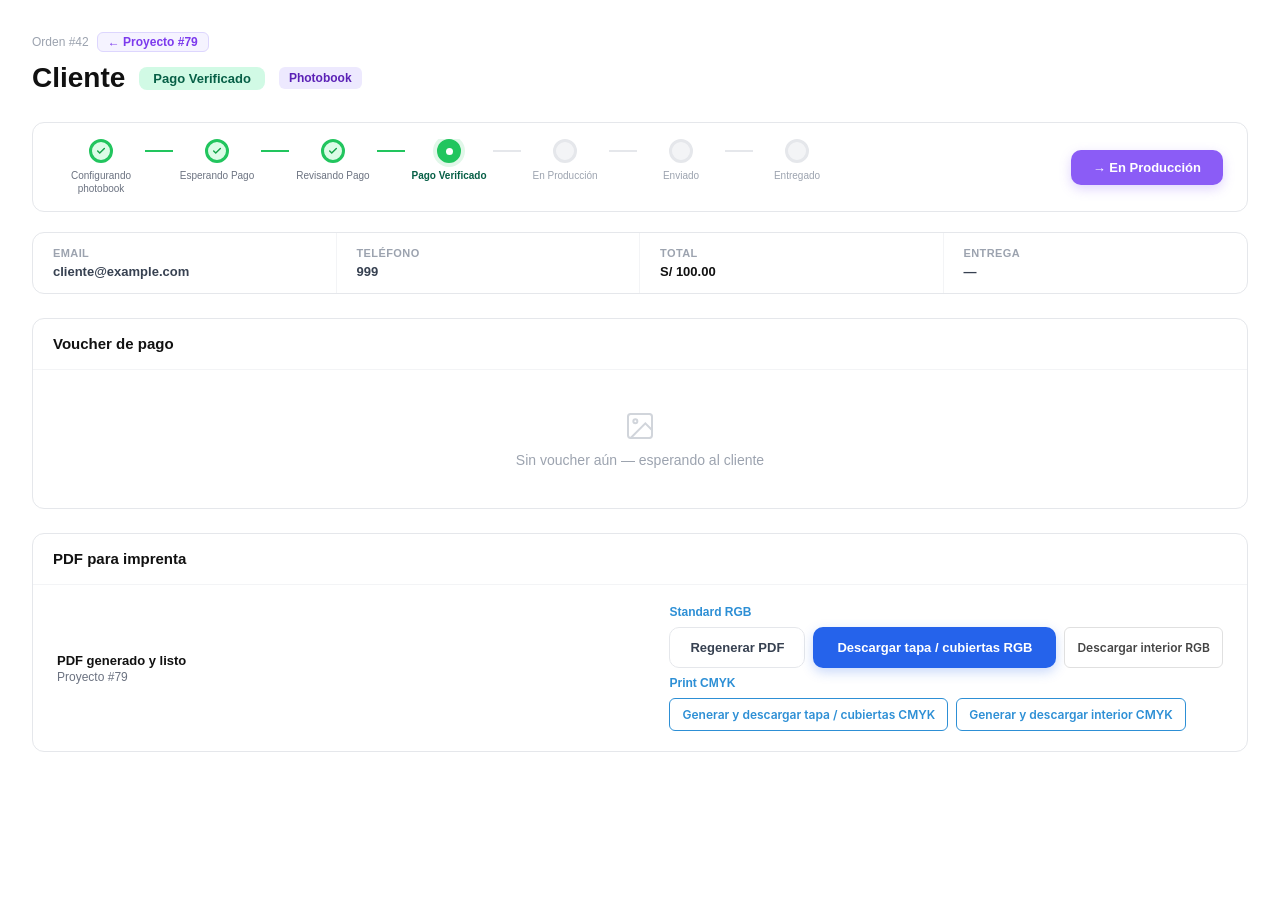
Test: order print output controls › groups standard and CMYK downloads for photobook orders
This screenshot has width=1280, height=900.
Expected: the text "Standard RGB" is shown, [670, 605, 752, 619]
Expected: the text "Print CMYK" is shown, [670, 676, 736, 690]
Click the button "Generar y descargar tapa / cubiertas CMYK".
click(809, 714)  # box [670, 698, 948, 731]
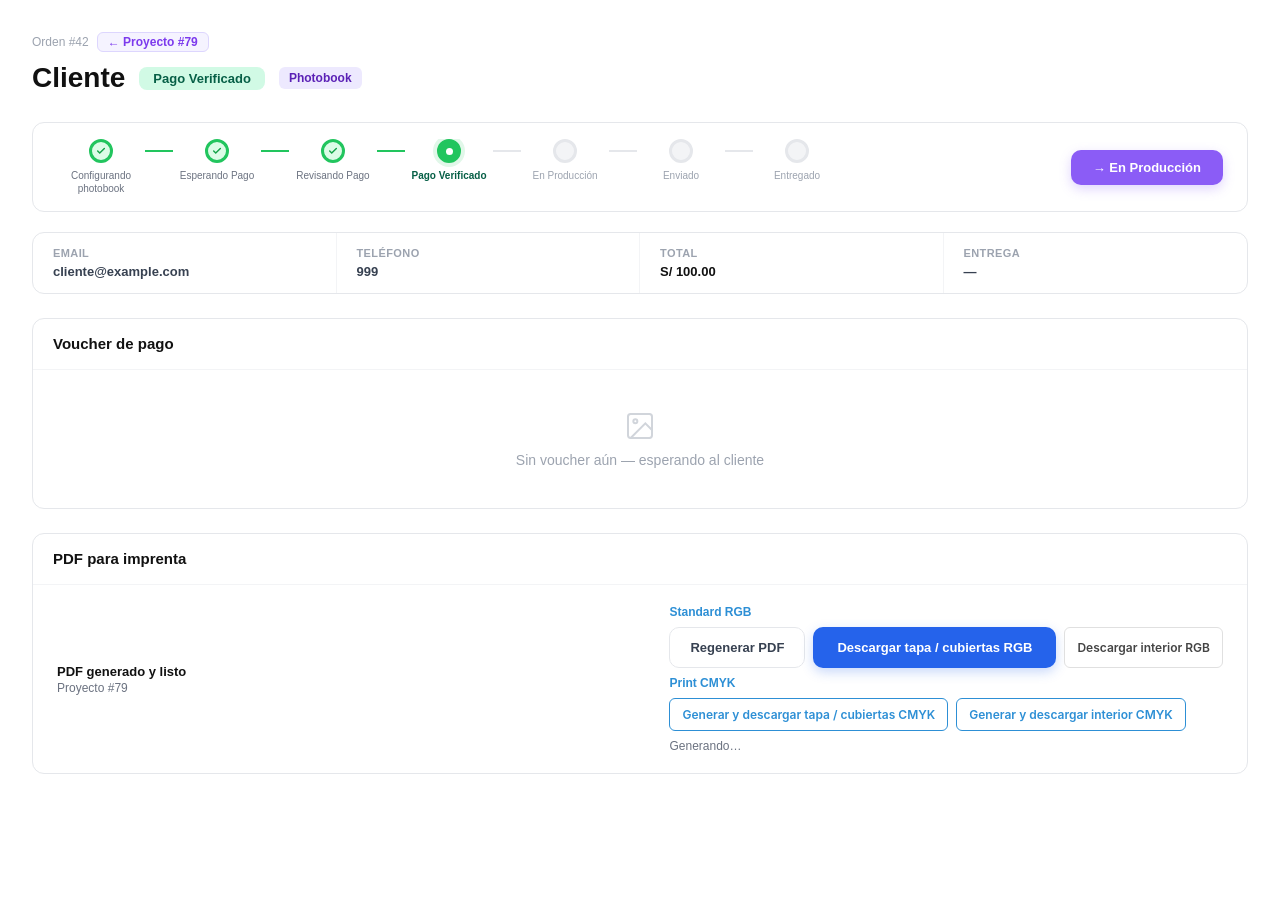
Expected: the button "Generar y descargar interior CMYK" is disabled, [956, 698, 1186, 731]
Expected: the text "Generando…" is shown, [670, 739, 742, 753]
